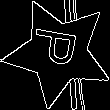P_E: (30, 30, 87, 75)
